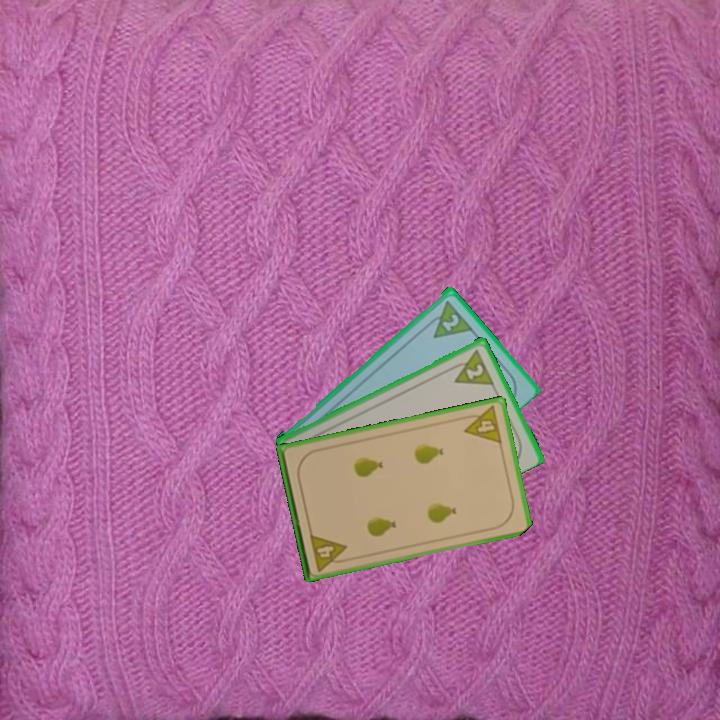2p: (445, 345, 496, 388), (438, 310, 462, 334)
4p: (458, 403, 505, 447), (306, 530, 351, 574)
